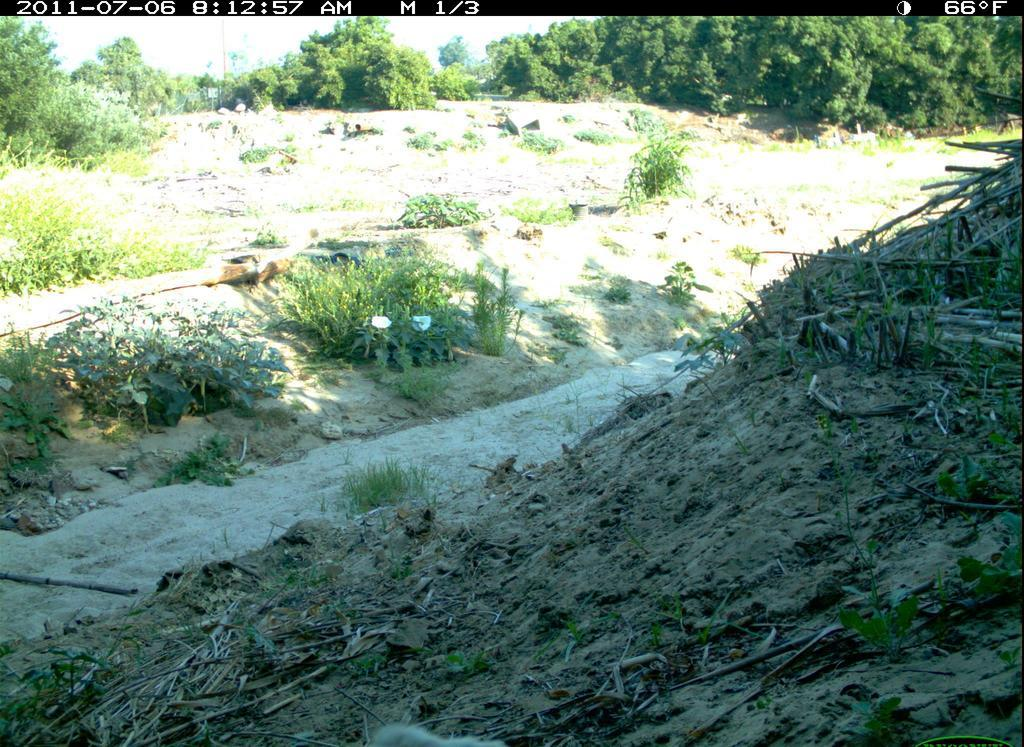dog: (356, 720, 520, 747)
